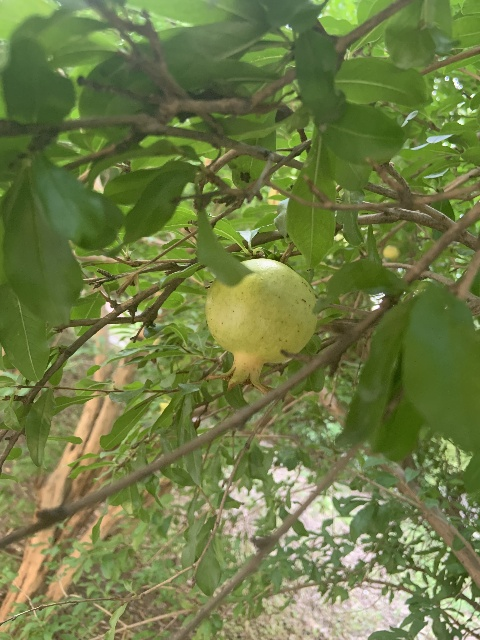mid-growth: (203, 259, 318, 396)
